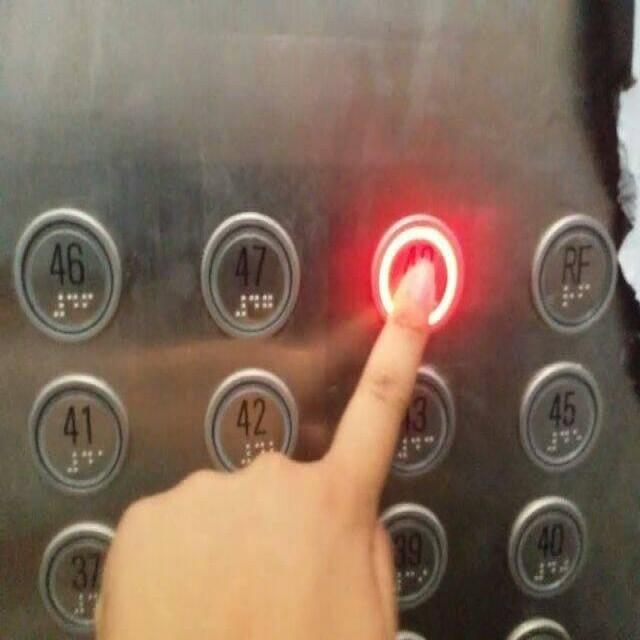39: (365, 498, 450, 610)
40: (502, 491, 589, 600)
41: (22, 368, 130, 500)
42: (199, 363, 300, 477)
45: (513, 356, 604, 476)
46: (9, 203, 125, 345)
47: (195, 205, 303, 344)
RF: (525, 208, 618, 337)
